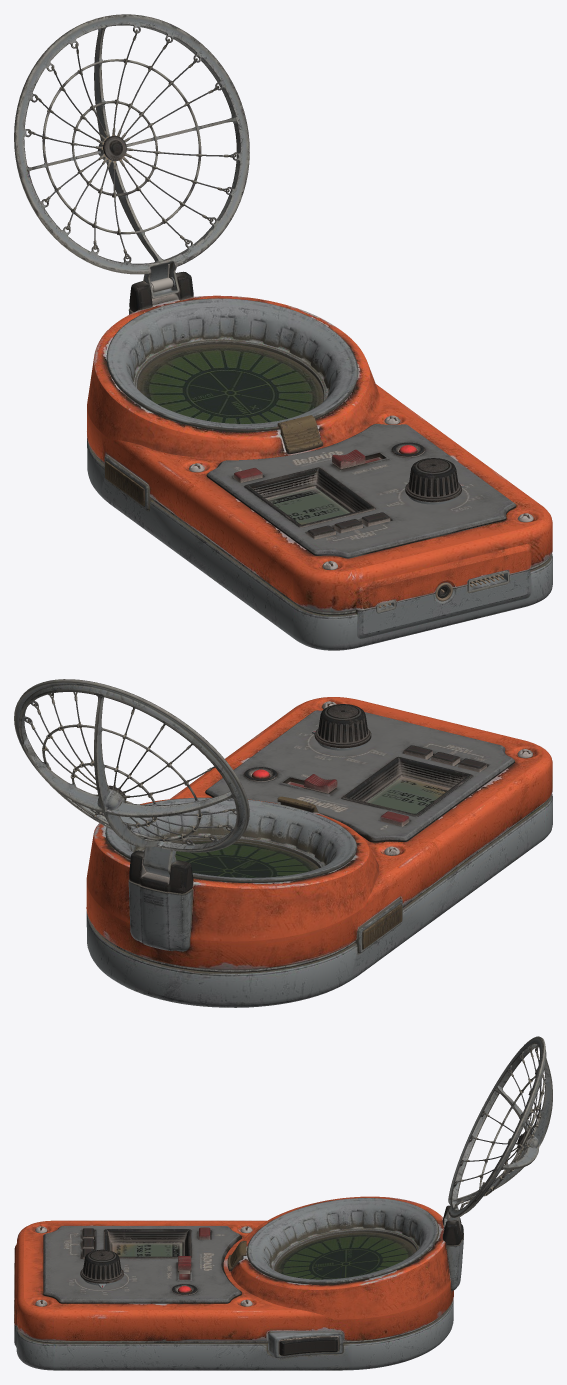
Rendered from PpeDetector.obj.
3 views of the same model, one above another, from view 1: azimuth 30°, elevation 25°; view 2: azimuth 150°, elevation 25°; view 3: azimuth 270°, elevation 25° (orthographic). The views are drawn at different scales.
Parts seen in each view (by area): view 1: Object_7_0, Object_6_0, Object_4_0, Object_2_0, Object_3_0; view 2: Object_6_0, Object_4_0, Object_7_0, Object_2_0, Object_3_0, Object_5_0; view 3: Object_7_0, Object_6_0, Object_4_0, Object_2_0, Object_3_0.
Boxes of the visible parts, box(x1,y1,x2,y2) form: Object_7_0: box(94, 295, 543, 639); Object_6_0: box(87, 298, 552, 650); Object_4_0: box(14, 14, 512, 601); Object_2_0: box(25, 25, 549, 615); Object_3_0: box(28, 29, 516, 610); Object_6_0: box(86, 697, 552, 1007); Object_4_0: box(18, 680, 513, 972); Object_7_0: box(93, 697, 545, 981); Object_2_0: box(14, 679, 548, 964); Object_3_0: box(23, 692, 543, 953); Object_5_0: box(40, 684, 243, 851); Object_7_0: box(14, 1196, 445, 1370); Object_6_0: box(14, 1198, 453, 1370); Object_4_0: box(43, 1036, 552, 1358); Object_2_0: box(20, 1044, 545, 1355); Object_3_0: box(14, 1048, 543, 1356).
Size of the model in its own units: 163 by 207 by 361.
2 materials, 2 textured.
